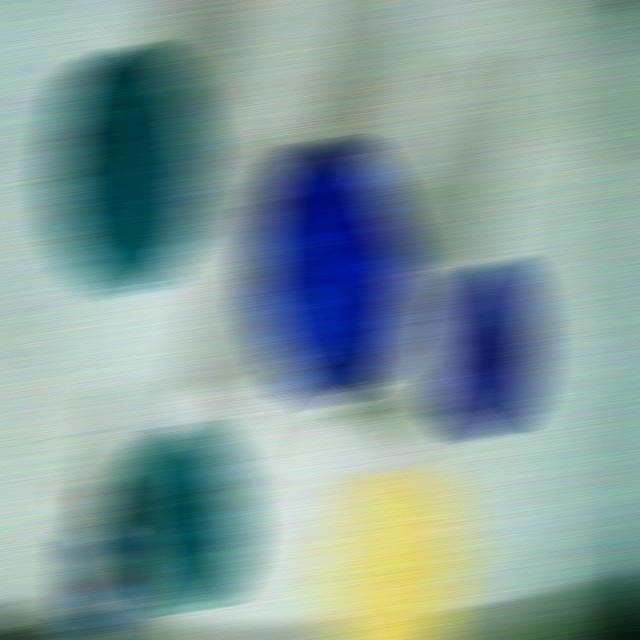blue: (248, 137, 413, 408), (441, 260, 539, 439)
green: (50, 45, 216, 296), (122, 424, 249, 613)
yellow: (317, 463, 468, 639)
